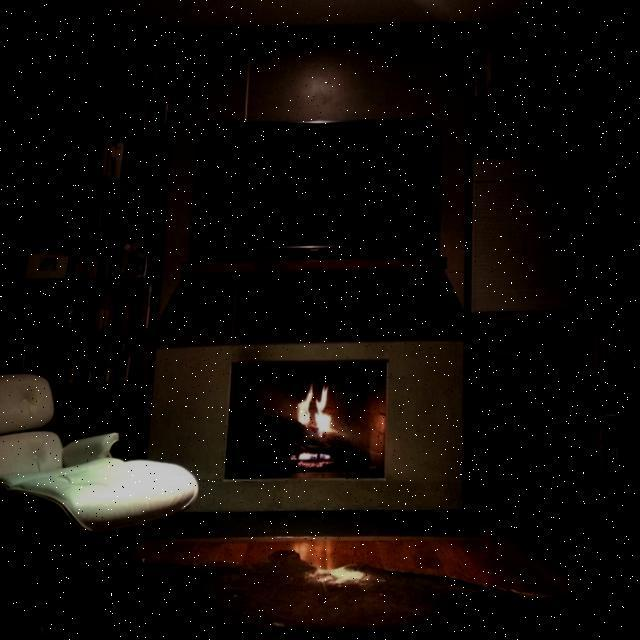Fire: (296, 376, 344, 472)
